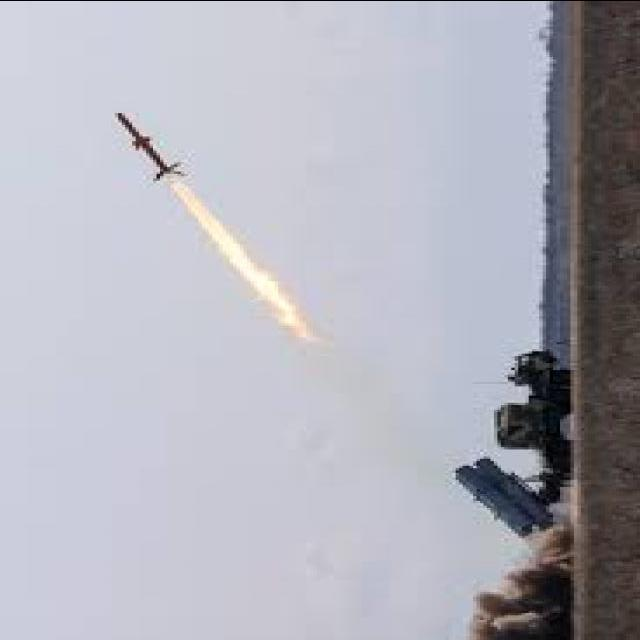missile: (113, 104, 191, 197)
